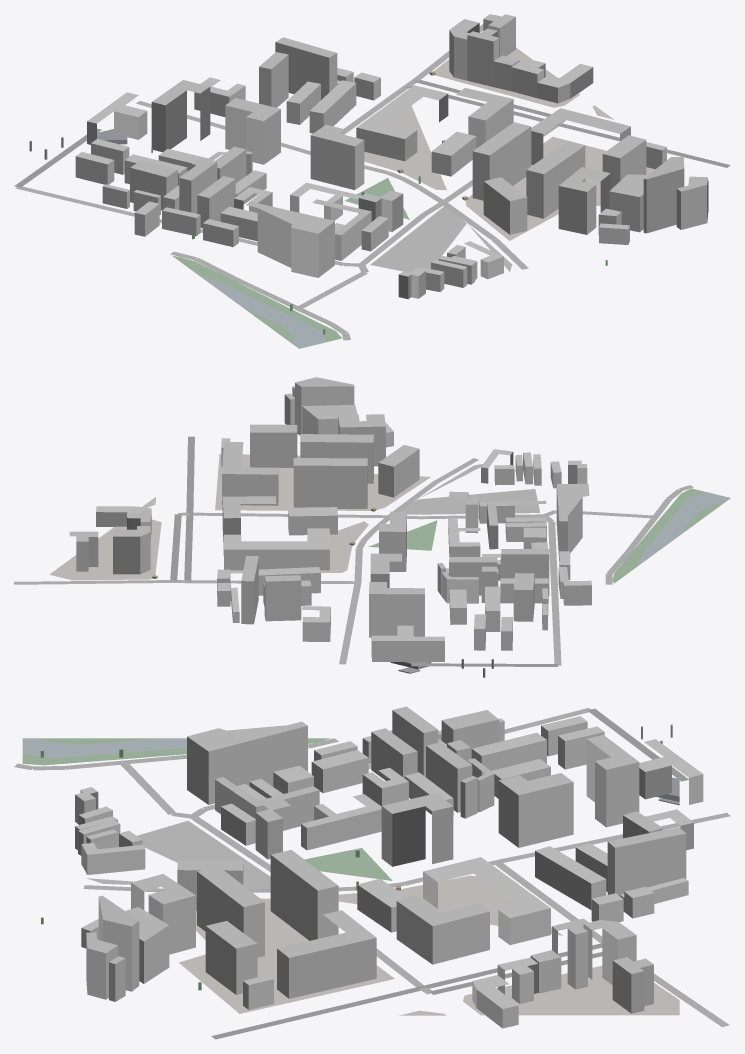
3 renders of one model, top to bottom at view 1: azimuth 30°, elevation 25°; view 2: azimuth 150°, elevation 25°; view 3: azimuth 270°, elevation 25°, orthographic. The views are drawn at different scales.
Size of the model in its own units: 596 by 66.36 by 546.
